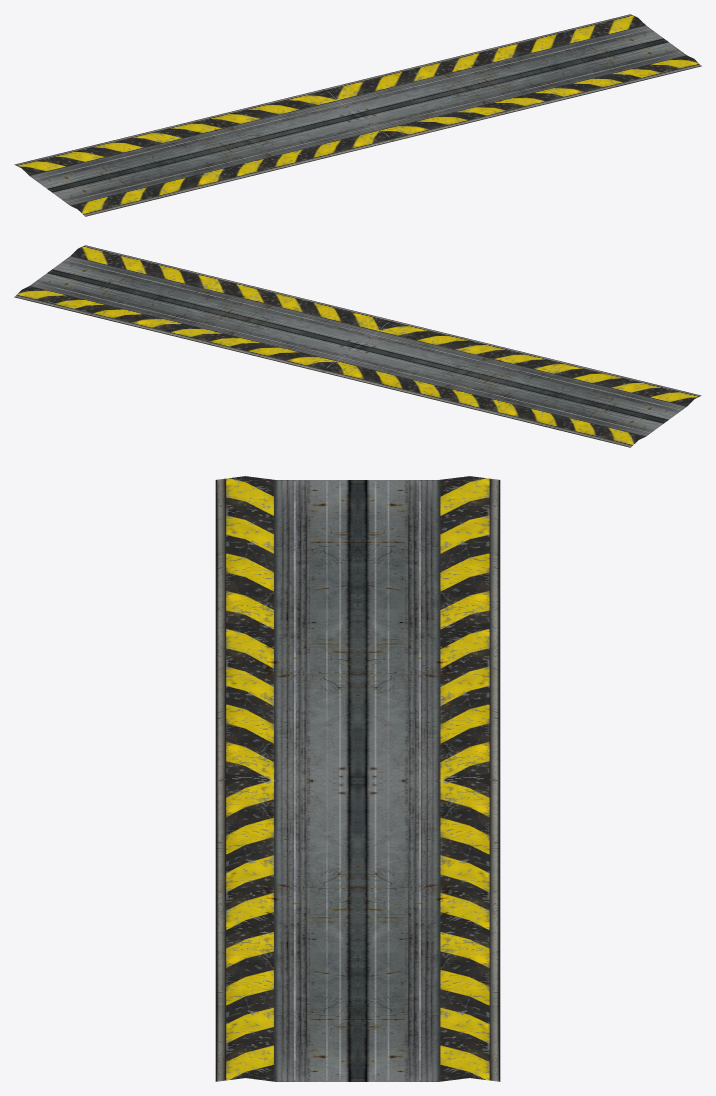
The model's file is FLO_FloorStrip01_5x1.FBX.
3 views of the same model, one above another, from view 1: azimuth 30°, elevation 25°; view 2: azimuth 150°, elevation 25°; view 3: azimuth 270°, elevation 25° (orthographic). The views are drawn at different scales.
Parts seen in each view (by area): view 1: FLO_FloorStrip01_5x1; view 2: FLO_FloorStrip01_5x1; view 3: FLO_FloorStrip01_5x1.
Boxes of the visible parts, box(x1,y1,x2,y2) form: FLO_FloorStrip01_5x1: box(14, 14, 701, 216); FLO_FloorStrip01_5x1: box(14, 245, 701, 447); FLO_FloorStrip01_5x1: box(215, 476, 500, 1081).
Size of the model in its own units: 500 by 1.48 by 100.
1 material, 1 textured.
